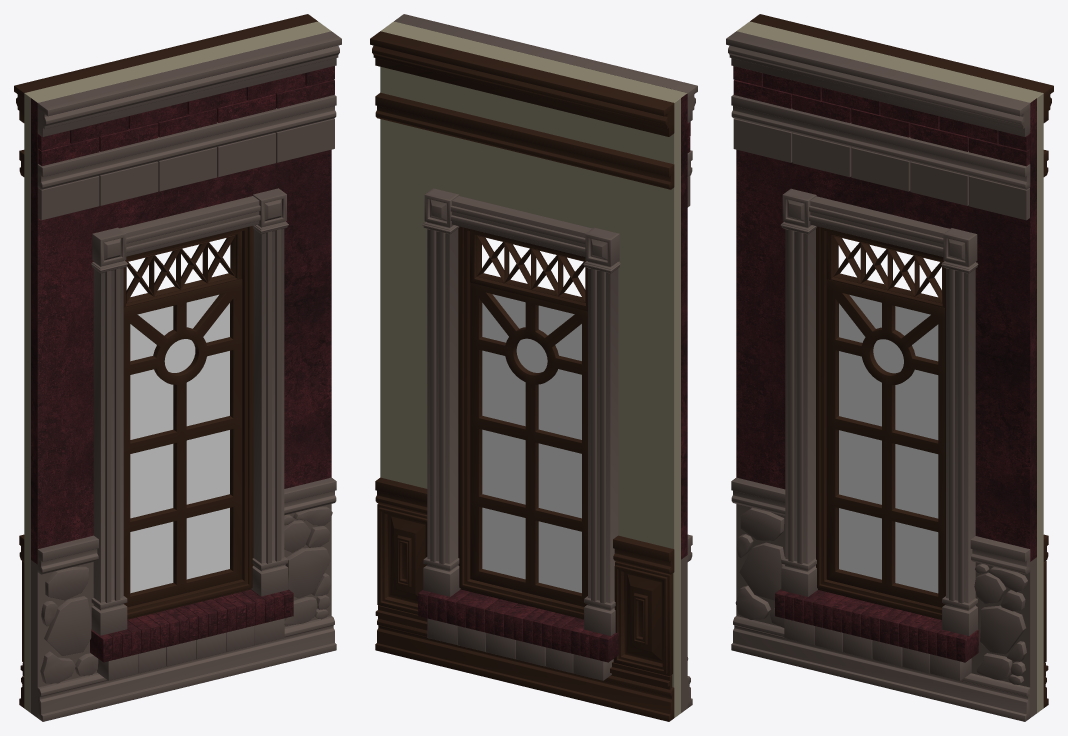
File: SK5 WINDOW 1.fbx
3 views of the same model, side by side, from view 1: azimuth 30°, elevation 25°; view 2: azimuth 150°, elevation 25°; view 3: azimuth 330°, elevation 25° (orthographic).
Visible parts, largest first — view 1: SK5 WINDOW 1; view 2: SK5 WINDOW 1; view 3: SK5 WINDOW 1.
Part boxes in pixels (bbox=[...]): SK5 WINDOW 1: bbox=[14, 14, 341, 721]; SK5 WINDOW 1: bbox=[370, 14, 697, 721]; SK5 WINDOW 1: bbox=[726, 14, 1053, 721].
Size of the model in its own units: 200 by 400 by 47.83.
